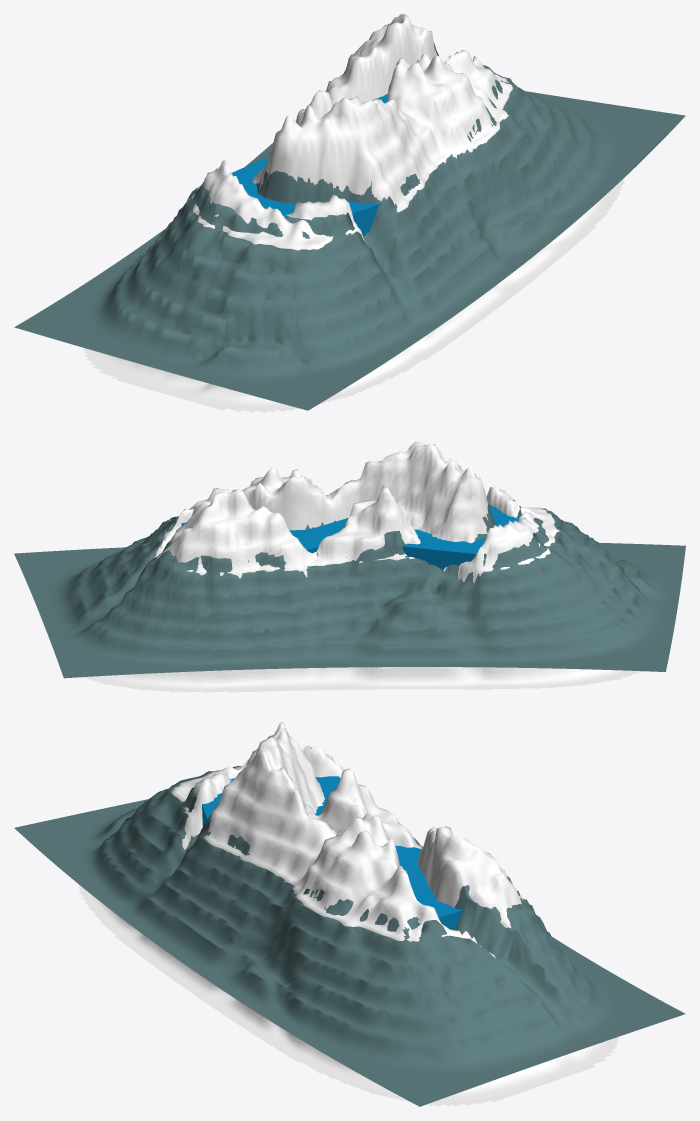
File: island_MOUNTAIN.fbx
3 renders of one model, top to bottom at view 1: azimuth 30°, elevation 25°; view 2: azimuth 150°, elevation 25°; view 3: azimuth 270°, elevation 25°, orthographic. The views are drawn at different scales.
Visible parts, largest first — view 1: island_MOUNTAIN, island_MOUNTAIN_SNOW, Plane; view 2: island_MOUNTAIN, island_MOUNTAIN_SNOW, Plane; view 3: island_MOUNTAIN, island_MOUNTAIN_SNOW, Plane.
Part boxes in pixels (x1,y1,x2,y2): island_MOUNTAIN: [14, 43, 685, 410]; island_MOUNTAIN_SNOW: [82, 14, 624, 412]; Plane: [232, 94, 387, 236]; island_MOUNTAIN: [14, 499, 685, 678]; island_MOUNTAIN_SNOW: [39, 441, 642, 692]; Plane: [181, 504, 519, 569]; island_MOUNTAIN: [14, 766, 685, 1106]; island_MOUNTAIN_SNOW: [78, 721, 619, 1106]; Plane: [202, 776, 462, 930].
Size of the model in its own units: 3734 by 3088 by 1009.
